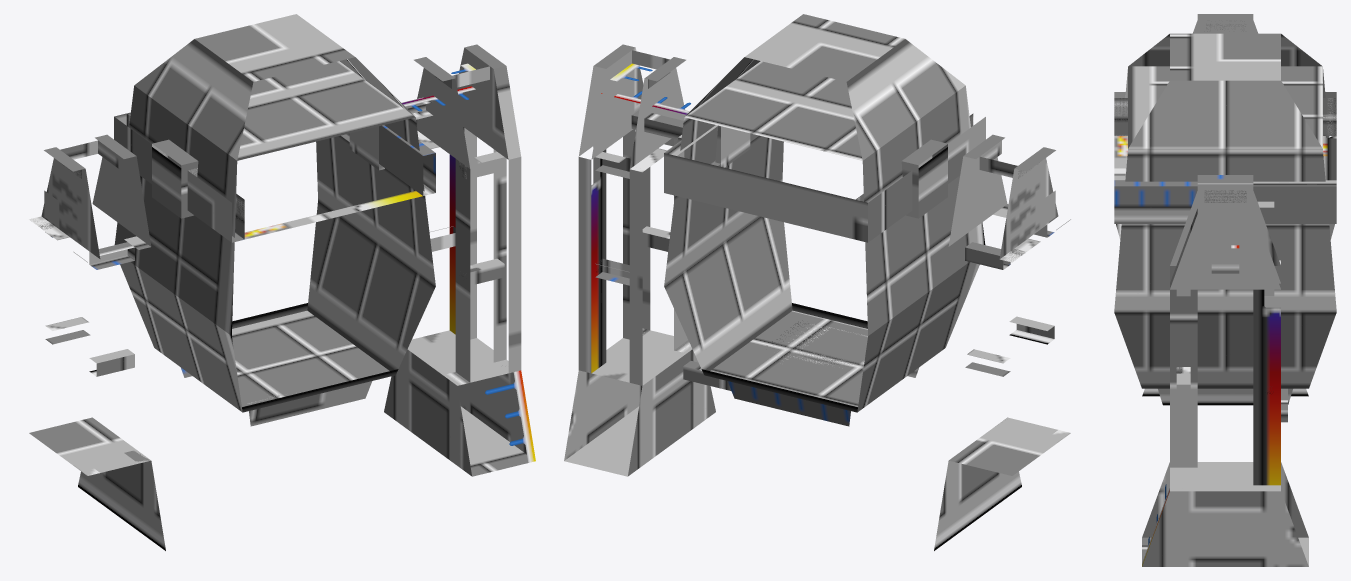
File: steelmaking_furnace.obj
The picture shows the model from 3 angles, left to right: view 1: azimuth 30°, elevation 25°; view 2: azimuth 150°, elevation 25°; view 3: azimuth 270°, elevation 25°; orthographic projection. The views are drawn at different scales.
Visible parts, largest first — view 1: Object_2; view 2: Object_2; view 3: Object_2.
Part boxes in pixels (left/top/right/bottom): Object_2: left=29, top=14, right=535, bottom=550; Object_2: left=564, top=14, right=1070, bottom=550; Object_2: left=1114, top=14, right=1336, bottom=566.
Size of the model in its own units: 4.38 by 4.06 by 2.
